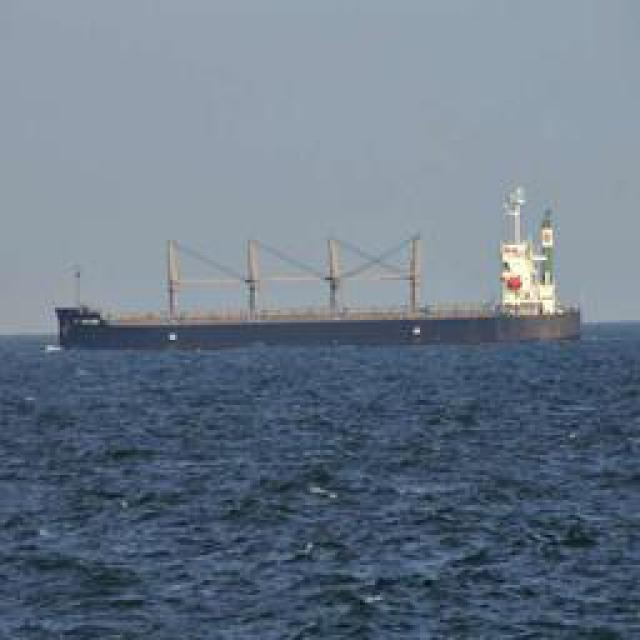Ship: (45, 216, 583, 354)
